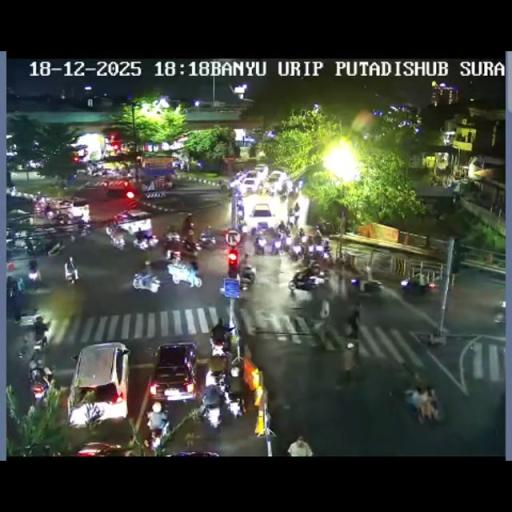Car: (67, 342, 130, 426), (148, 342, 198, 403), (246, 202, 277, 232), (74, 441, 127, 456), (266, 170, 290, 194), (104, 178, 136, 196), (238, 172, 263, 194), (254, 163, 268, 176)
Motorcycle: (411, 388, 444, 426), (207, 338, 231, 384), (146, 405, 170, 450), (198, 386, 224, 426), (166, 259, 202, 287), (401, 276, 433, 297), (289, 271, 322, 291), (312, 315, 330, 351), (132, 272, 161, 293), (6, 278, 21, 318), (304, 242, 330, 265), (30, 374, 48, 404), (17, 309, 44, 328), (133, 230, 158, 250), (106, 225, 126, 249), (225, 394, 244, 419), (229, 353, 244, 383), (345, 308, 360, 338), (32, 198, 54, 218), (238, 266, 256, 290), (32, 330, 50, 354), (356, 278, 383, 294), (22, 236, 44, 255), (180, 238, 198, 259), (46, 240, 66, 257), (198, 232, 216, 250), (74, 220, 92, 238), (64, 264, 79, 285), (254, 233, 268, 254), (51, 210, 70, 225), (493, 300, 505, 323), (27, 268, 42, 285), (270, 236, 284, 254), (234, 216, 248, 234), (88, 164, 109, 176), (289, 240, 302, 259), (168, 250, 182, 266), (164, 230, 182, 242), (182, 216, 194, 234), (143, 259, 154, 278), (239, 253, 250, 270), (163, 174, 174, 189), (288, 186, 298, 202), (277, 222, 287, 236), (7, 228, 16, 242), (17, 277, 25, 292), (219, 180, 228, 193), (293, 210, 300, 226), (284, 234, 293, 246), (258, 184, 268, 194), (350, 276, 359, 287), (314, 226, 322, 238), (300, 234, 309, 244), (250, 226, 258, 236)
